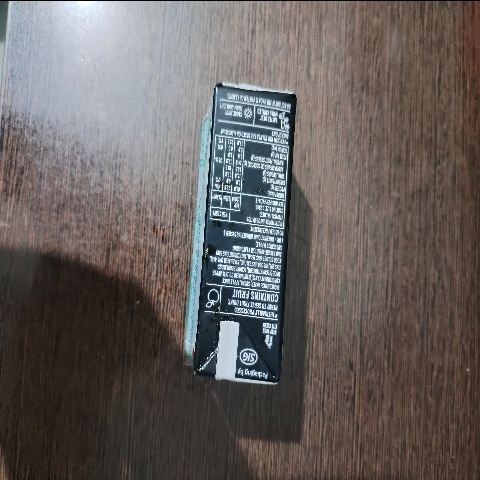appy: (161, 70, 316, 396)
